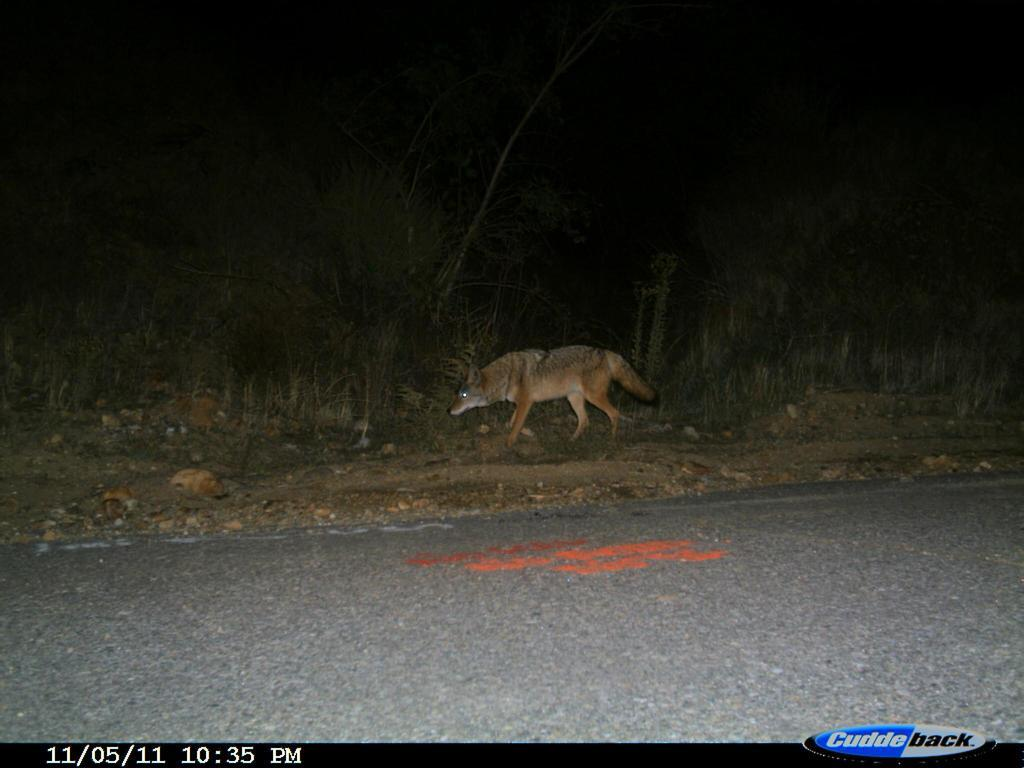coyote: (443, 324, 673, 460)
